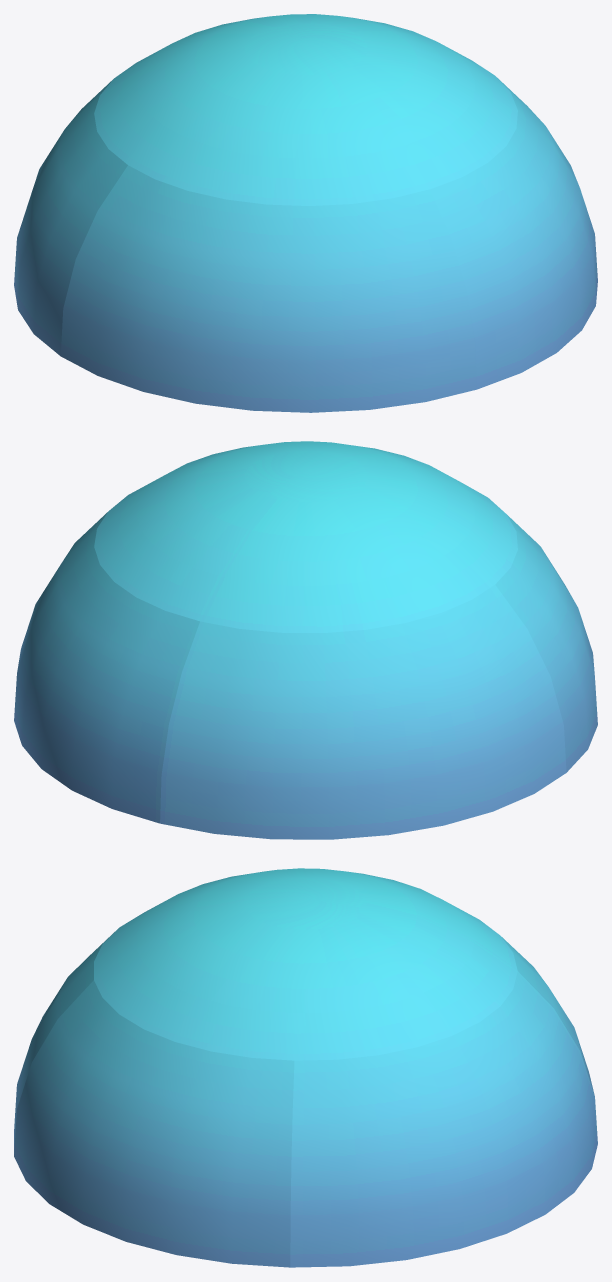
Rendered from skylight.DAE.
3 views of the same model, one above another, from view 1: azimuth 30°, elevation 25°; view 2: azimuth 150°, elevation 25°; view 3: azimuth 270°, elevation 25° (orthographic).
Visible parts, largest first — view 1: Sphere01, Object01, Object03, Object04; view 2: Object04, Object01, Object02, Sphere01; view 3: Object02, Object01, Object03, Sphere01, Object04.
Part boxes in pixels (left/top/right/bottom): Sphere01: left=60, top=165, right=477, bottom=412; Object01: left=94, top=14, right=517, bottom=205; Object03: left=430, top=78, right=597, bottom=389; Object04: left=14, top=80, right=127, bottom=355; Object04: left=160, top=585, right=566, bottom=839; Object01: left=94, top=441, right=517, bottom=632; Object02: left=14, top=512, right=199, bottom=823; Sphere01: left=495, top=515, right=597, bottom=772; Object02: left=290, top=971, right=597, bottom=1267; Object01: left=94, top=868, right=517, bottom=1060; Object03: left=14, top=980, right=294, bottom=1267; Sphere01: left=14, top=932, right=114, bottom=1153; Object04: left=502, top=937, right=594, bottom=1094.
Size of the model in its own units: 12081 by 5604 by 12066.
